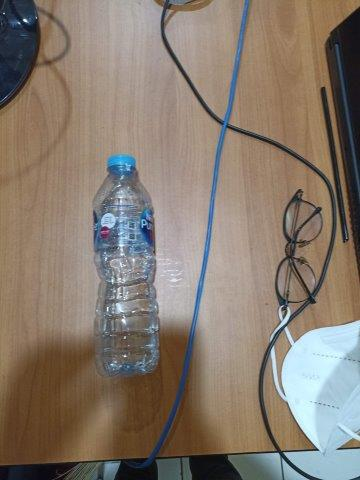botolplastik: (94, 153, 158, 378)
